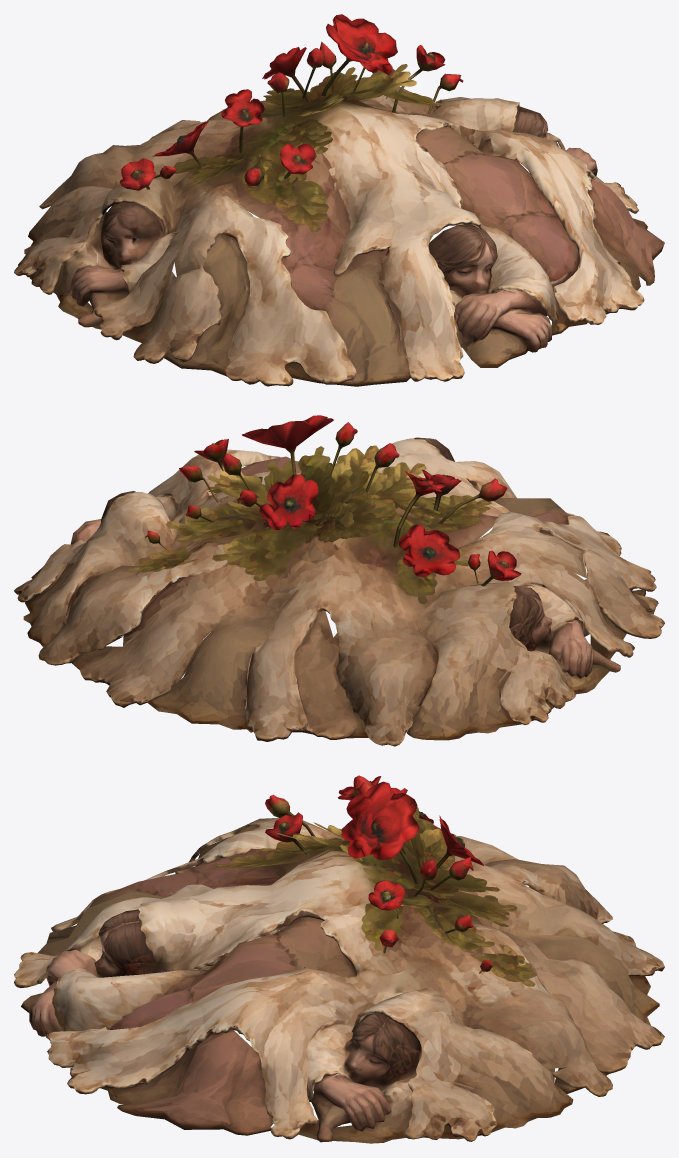
Rendered from act1-p06-poppy-mound.glb.
3 views of the same model, one above another, from view 1: azimuth 30°, elevation 25°; view 2: azimuth 150°, elevation 25°; view 3: azimuth 270°, elevation 25° (orthographic). The views are drawn at different scales.
Visible parts, largest first — view 1: act1-p06-poppy-mound; view 2: act1-p06-poppy-mound; view 3: act1-p06-poppy-mound.
Part boxes in pixels (x1,y1,x2,y2): act1-p06-poppy-mound: (14,14,664,386); act1-p06-poppy-mound: (14,415,664,746); act1-p06-poppy-mound: (14,775,664,1143).
Size of the model in its own units: 4.5 by 1.7 by 4.43.
1 material, 1 textured.
